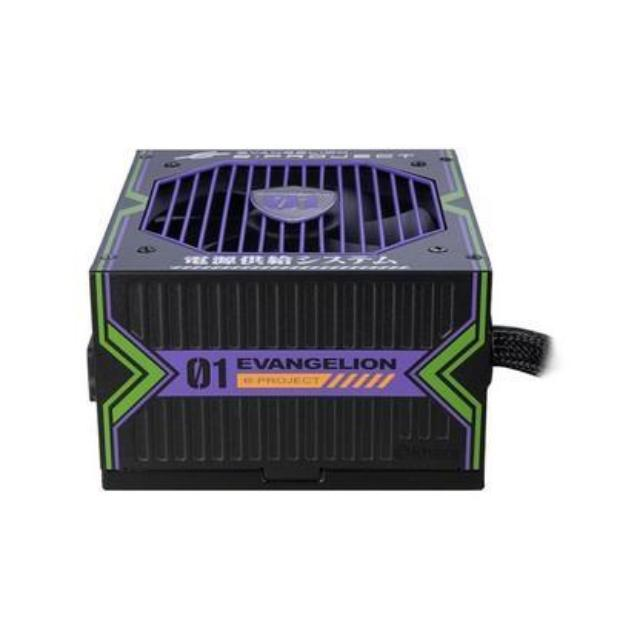PSU: (84, 133, 501, 504)
